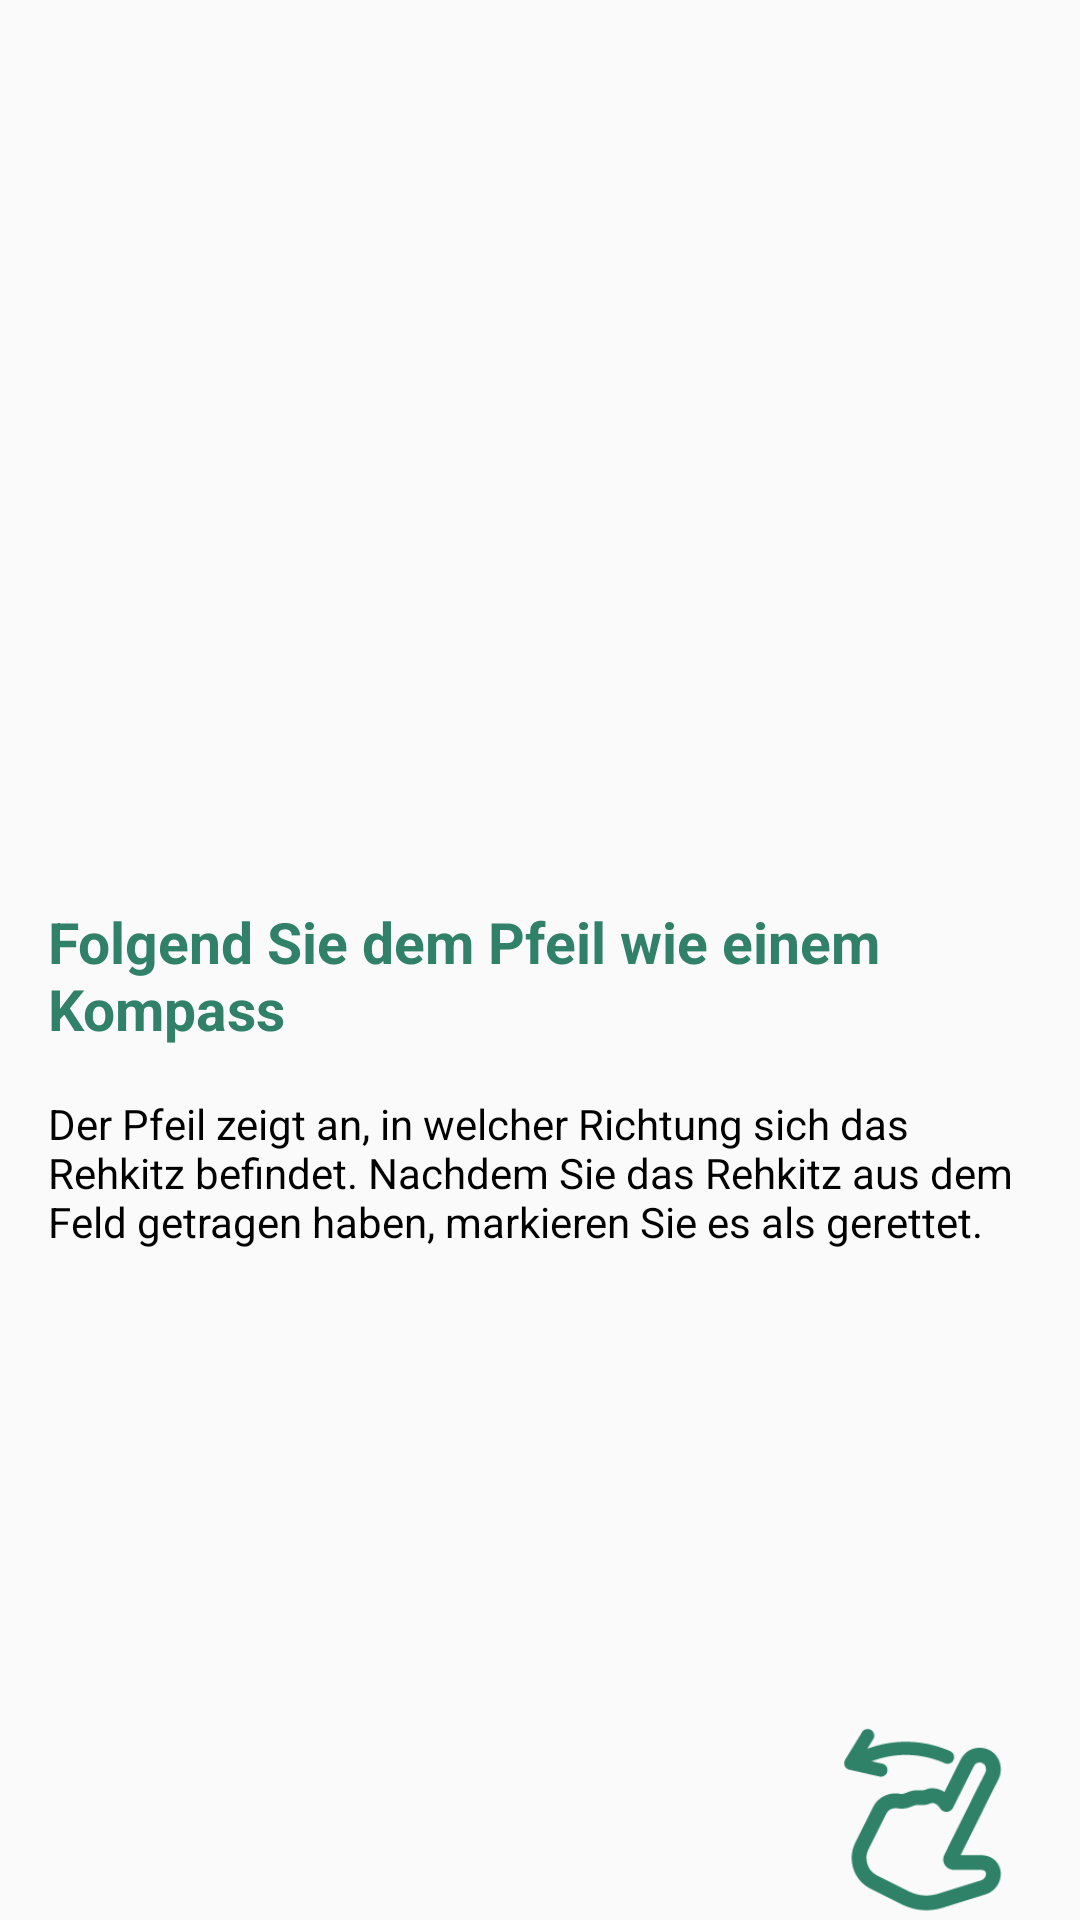

Icons on this 1080px x 1920px Android screen, each with its box as Rect(x1, y1, x2, y2):
finger swipe: Rect(844, 1729, 1002, 1911)
